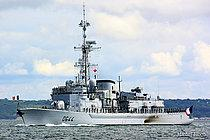MIL_Ship: (16, 41, 198, 127)
